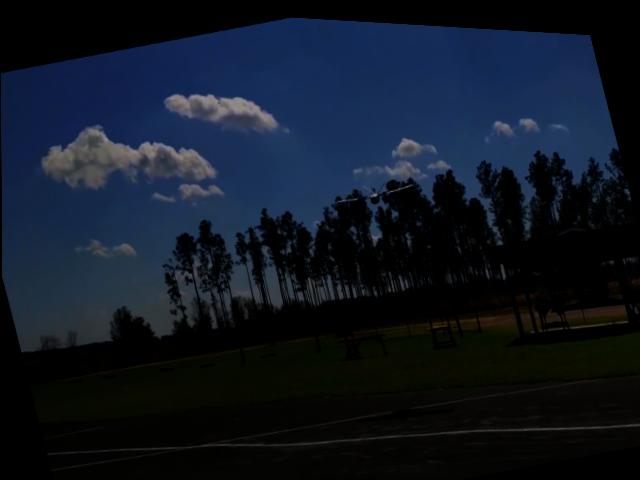plane: (331, 166, 419, 214)
